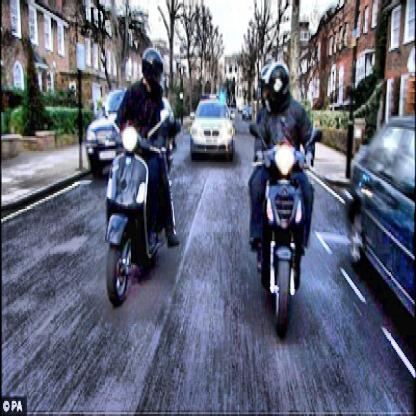wear: (262, 64, 292, 112), (145, 43, 167, 96)
